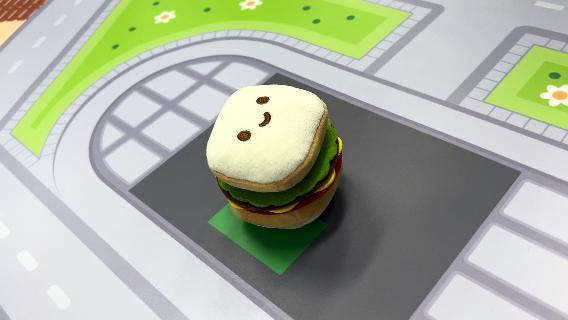sandwich: (204, 81, 346, 230)
